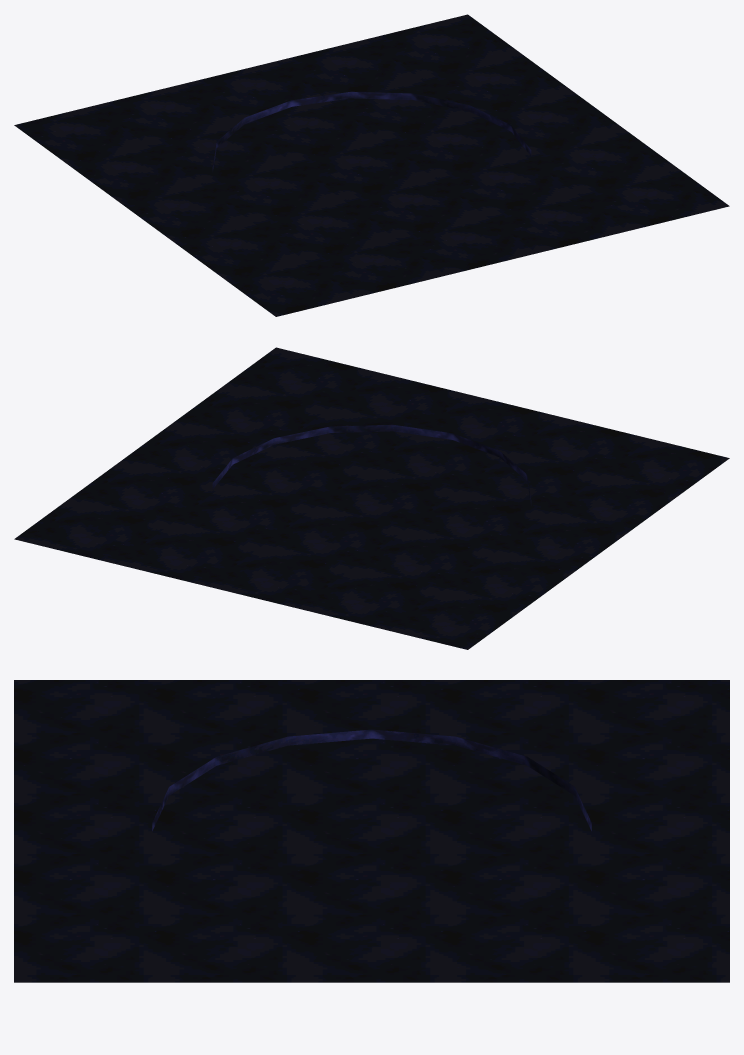
File: INST_OH_SKY_BOX.obj
3 renders of one model, top to bottom at view 1: azimuth 30°, elevation 25°; view 2: azimuth 150°, elevation 25°; view 3: azimuth 270°, elevation 25°, orthographic. The views are drawn at different scales.
Parts seen in each view (by area): view 1: Plane03; view 2: Plane03; view 3: Plane03.
Part boxes in pixels (x1=…): Plane03: x1=14, y1=14, x2=729, y2=316; Plane03: x1=14, y1=347, x2=729, y2=649; Plane03: x1=14, y1=680, x2=729, y2=982.
Size of the model in its own units: 2010 by 390 by 2010.
